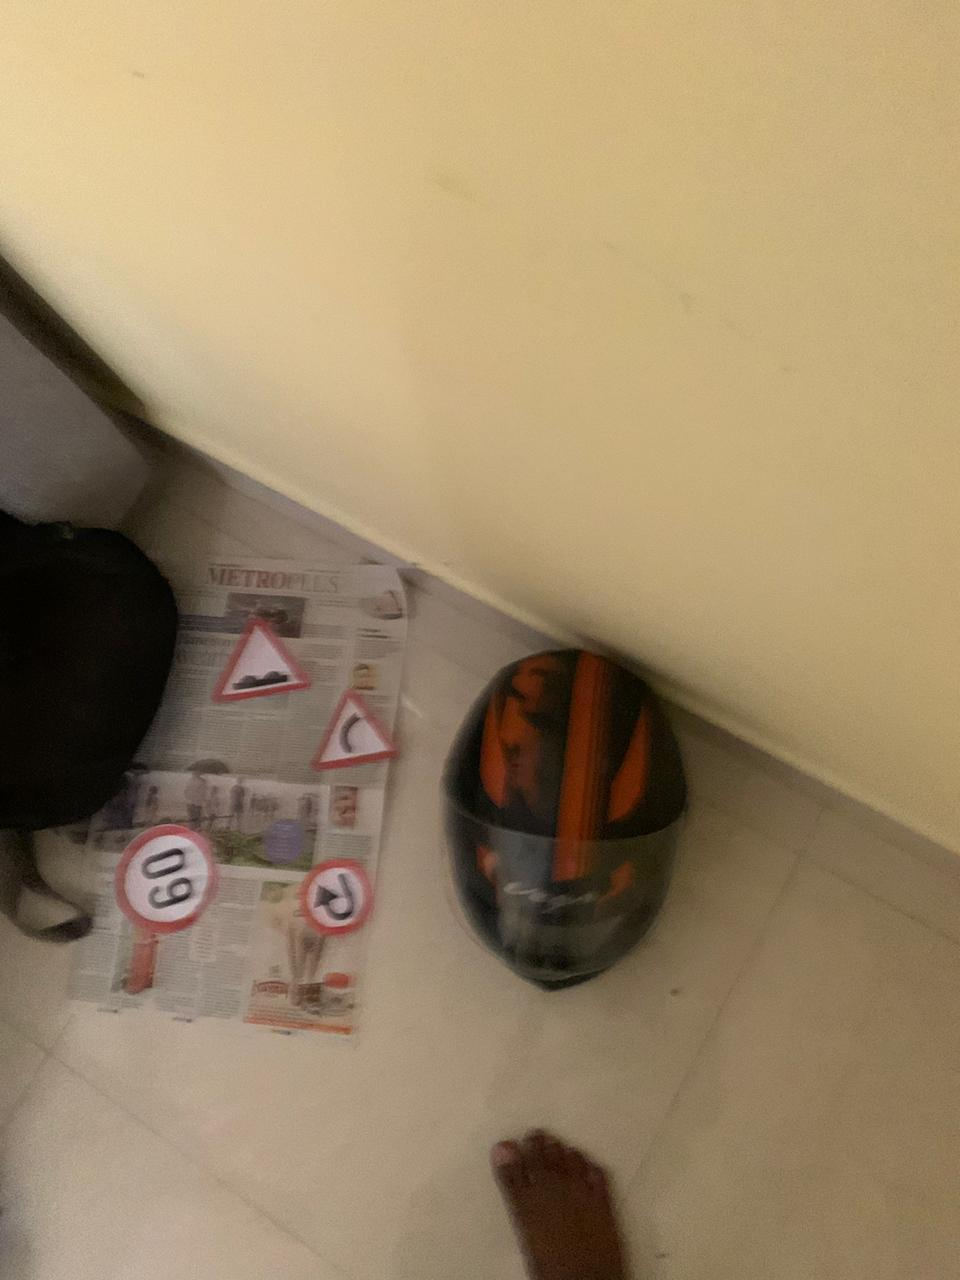LEFT CURVE: (306, 685, 426, 761)
SPEED LIMIT (60 KM/H): (105, 823, 232, 950)
U-TURN: (301, 864, 371, 935)
UNEVEN ROAD: (210, 615, 301, 703)
